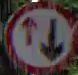Two way: (2, 3, 73, 74)
